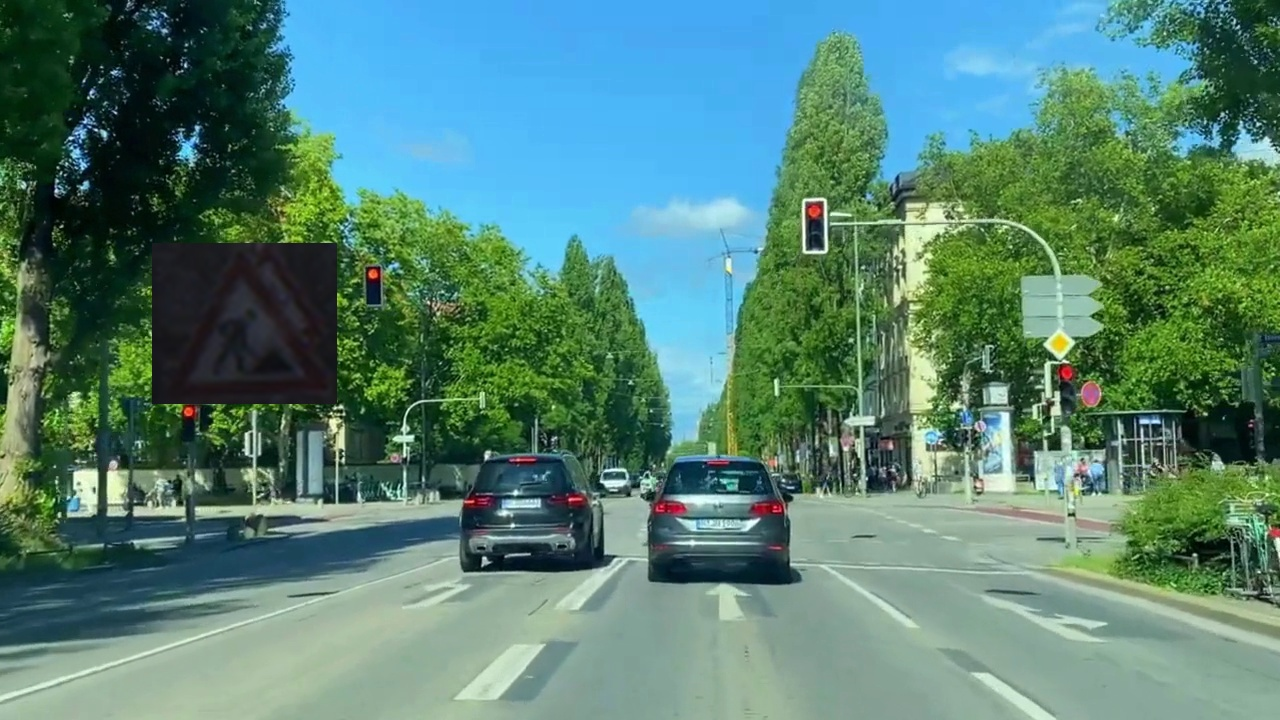Road work: (152, 243, 337, 404)
